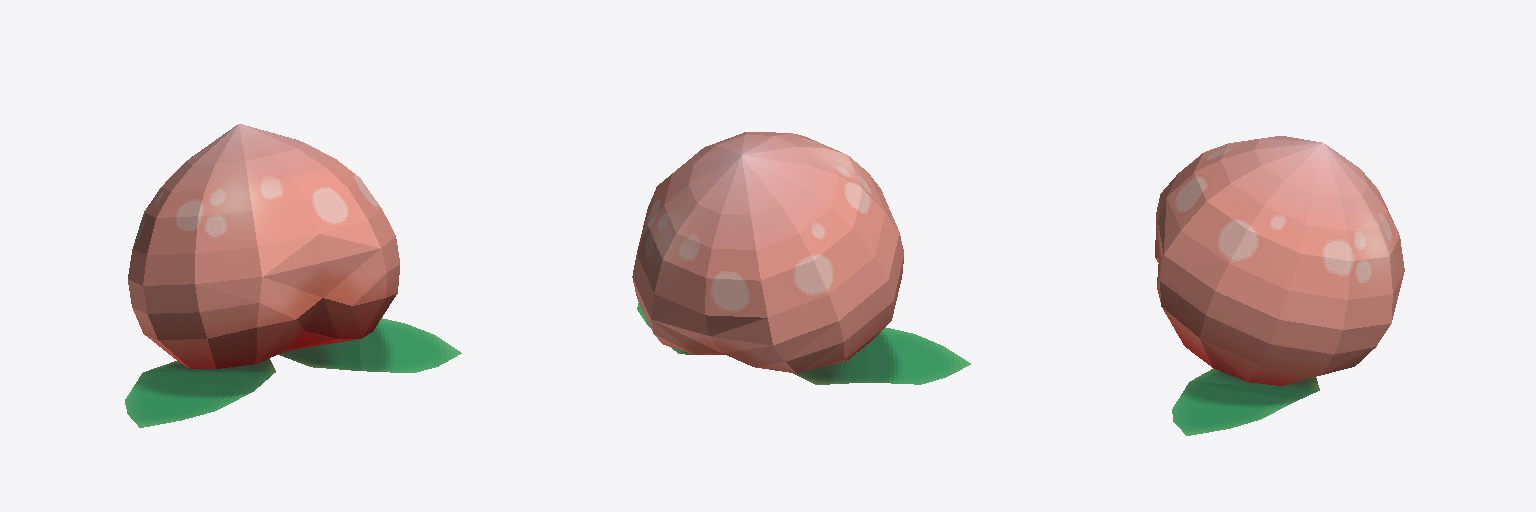
3 views of the same model, side by side, from view 1: azimuth 30°, elevation 25°; view 2: azimuth 150°, elevation 25°; view 3: azimuth 270°, elevation 25° (orthographic).
Parts seen in each view (by area): view 1: momon; view 2: momon; view 3: momon.
Boxes of the visible parts, x1=… form: momon: x1=125, y1=124, x2=461, y2=427; momon: x1=632, y1=132, x2=970, y2=384; momon: x1=1155, y1=136, x2=1404, y2=435.
Bounding box in the file's own units: 1.91 × 1.31 × 1.29.
1 materials, 1 textured.